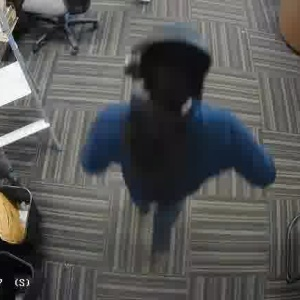person: (84, 22, 242, 226)
